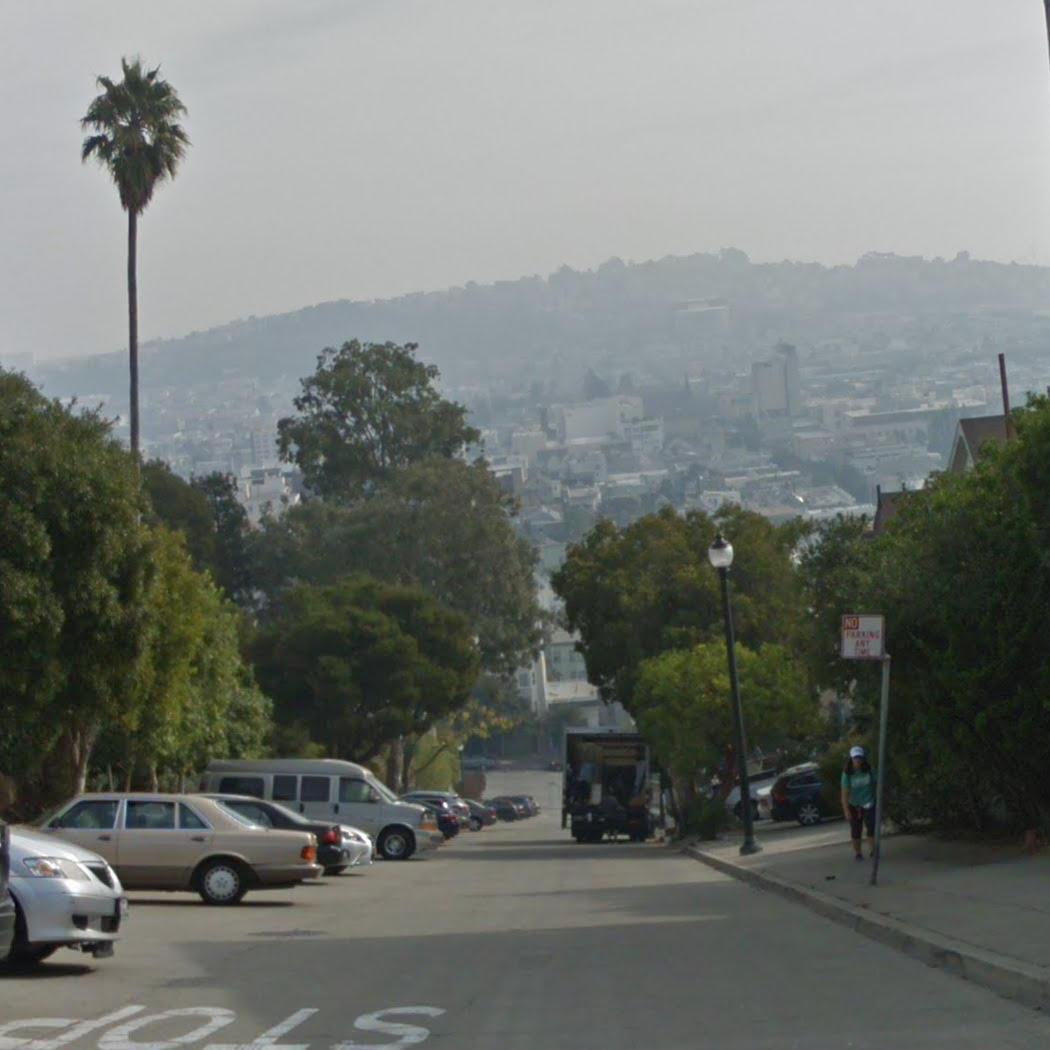No Parking Anytime: (838, 611, 888, 662)
